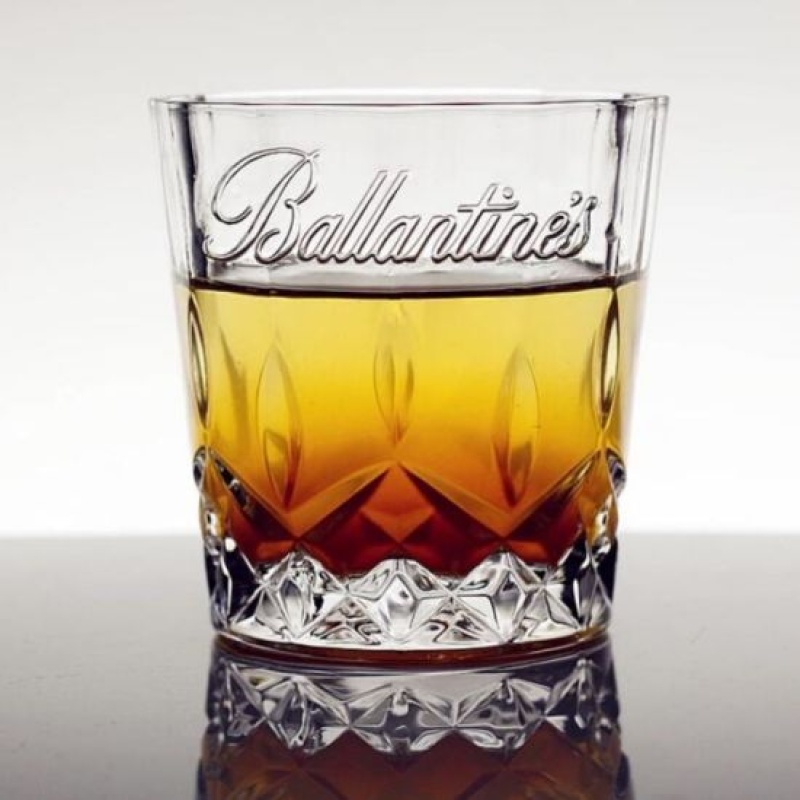whiskey: (176, 91, 672, 661)
